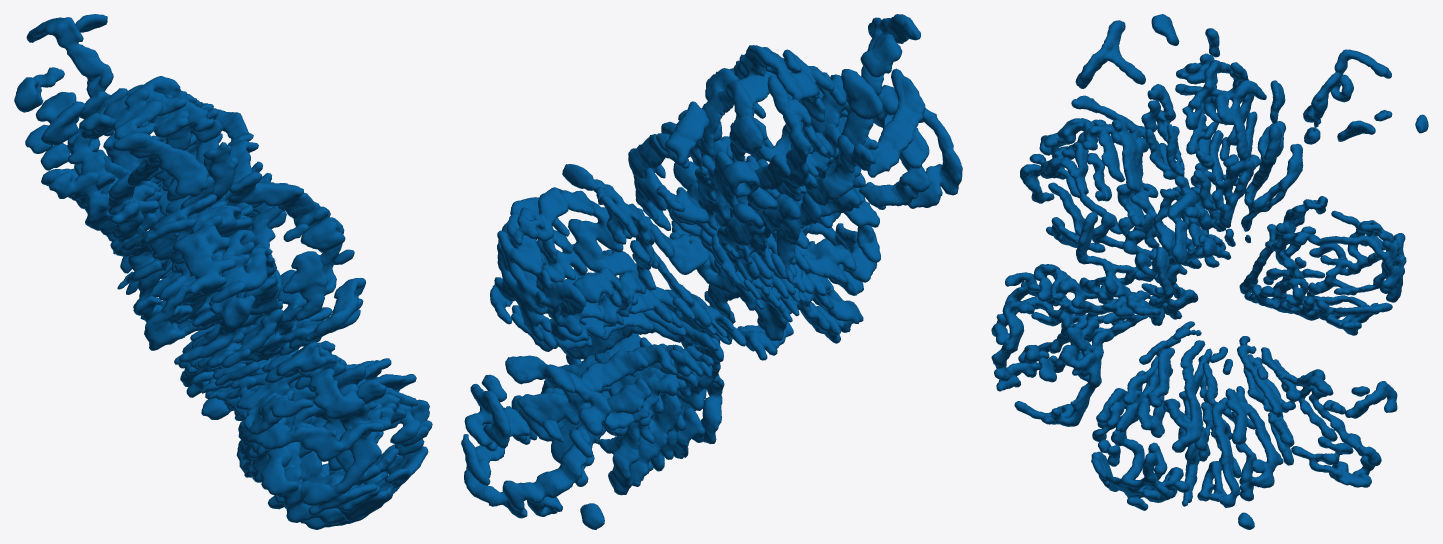
The model's file is 0HR_100cis_timelapse_z.glb.
3 renders of one model, left to right at view 1: azimuth 30°, elevation 25°; view 2: azimuth 150°, elevation 25°; view 3: azimuth 270°, elevation 25°, orthographic. The views are drawn at different scales.
Visible parts, largest first — view 1: 0HR_100cis_timelapse_z; view 2: 0HR_100cis_timelapse_z; view 3: 0HR_100cis_timelapse_z.
Boxes of the visible parts, <box> form: 0HR_100cis_timelapse_z: <box>14,14,432,529</box>; 0HR_100cis_timelapse_z: <box>461,14,962,529</box>; 0HR_100cis_timelapse_z: <box>991,14,1428,529</box>.
Bounding box in the file's own units: 18.61 × 24.96 × 23.66.
